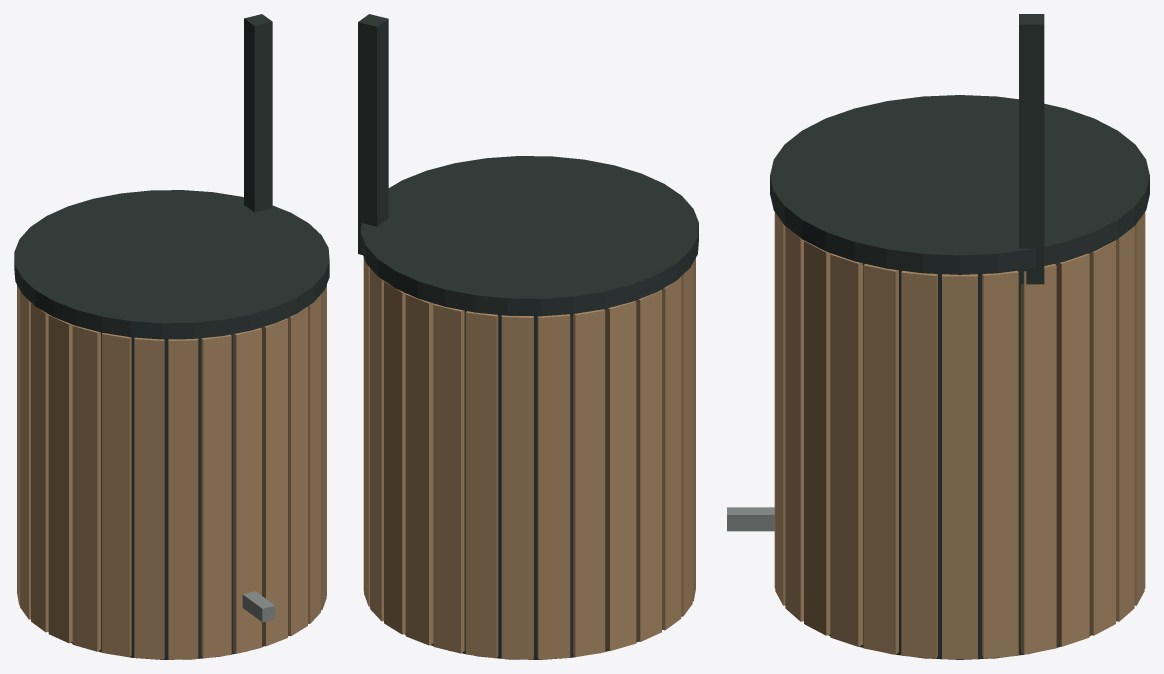
Rendered from barrel.glb.
3 renders of one model, left to right at view 1: azimuth 30°, elevation 25°; view 2: azimuth 150°, elevation 25°; view 3: azimuth 270°, elevation 25°, orthographic. The views are drawn at different scales.
Visible parts, largest first — view 1: barrel_Modrin, barrel_Antracit, barrel_Ocel; view 2: barrel_Modrin, barrel_Antracit; view 3: barrel_Modrin, barrel_Antracit, barrel_Ocel.
Part boxes in pixels (x1,y1,x2,y2): barrel_Modrin: (17,285,326,659); barrel_Antracit: (14,14,329,659); barrel_Ocel: (242,591,275,622); barrel_Modrin: (363,257,695,659); barrel_Antracit: (358,14,698,659); barrel_Modrin: (774,212,1145,659); barrel_Antracit: (770,14,1149,659); barrel_Ocel: (727,507,774,531).
Bounding box in the file's own units: 1.06 × 1.95 × 1.18.
